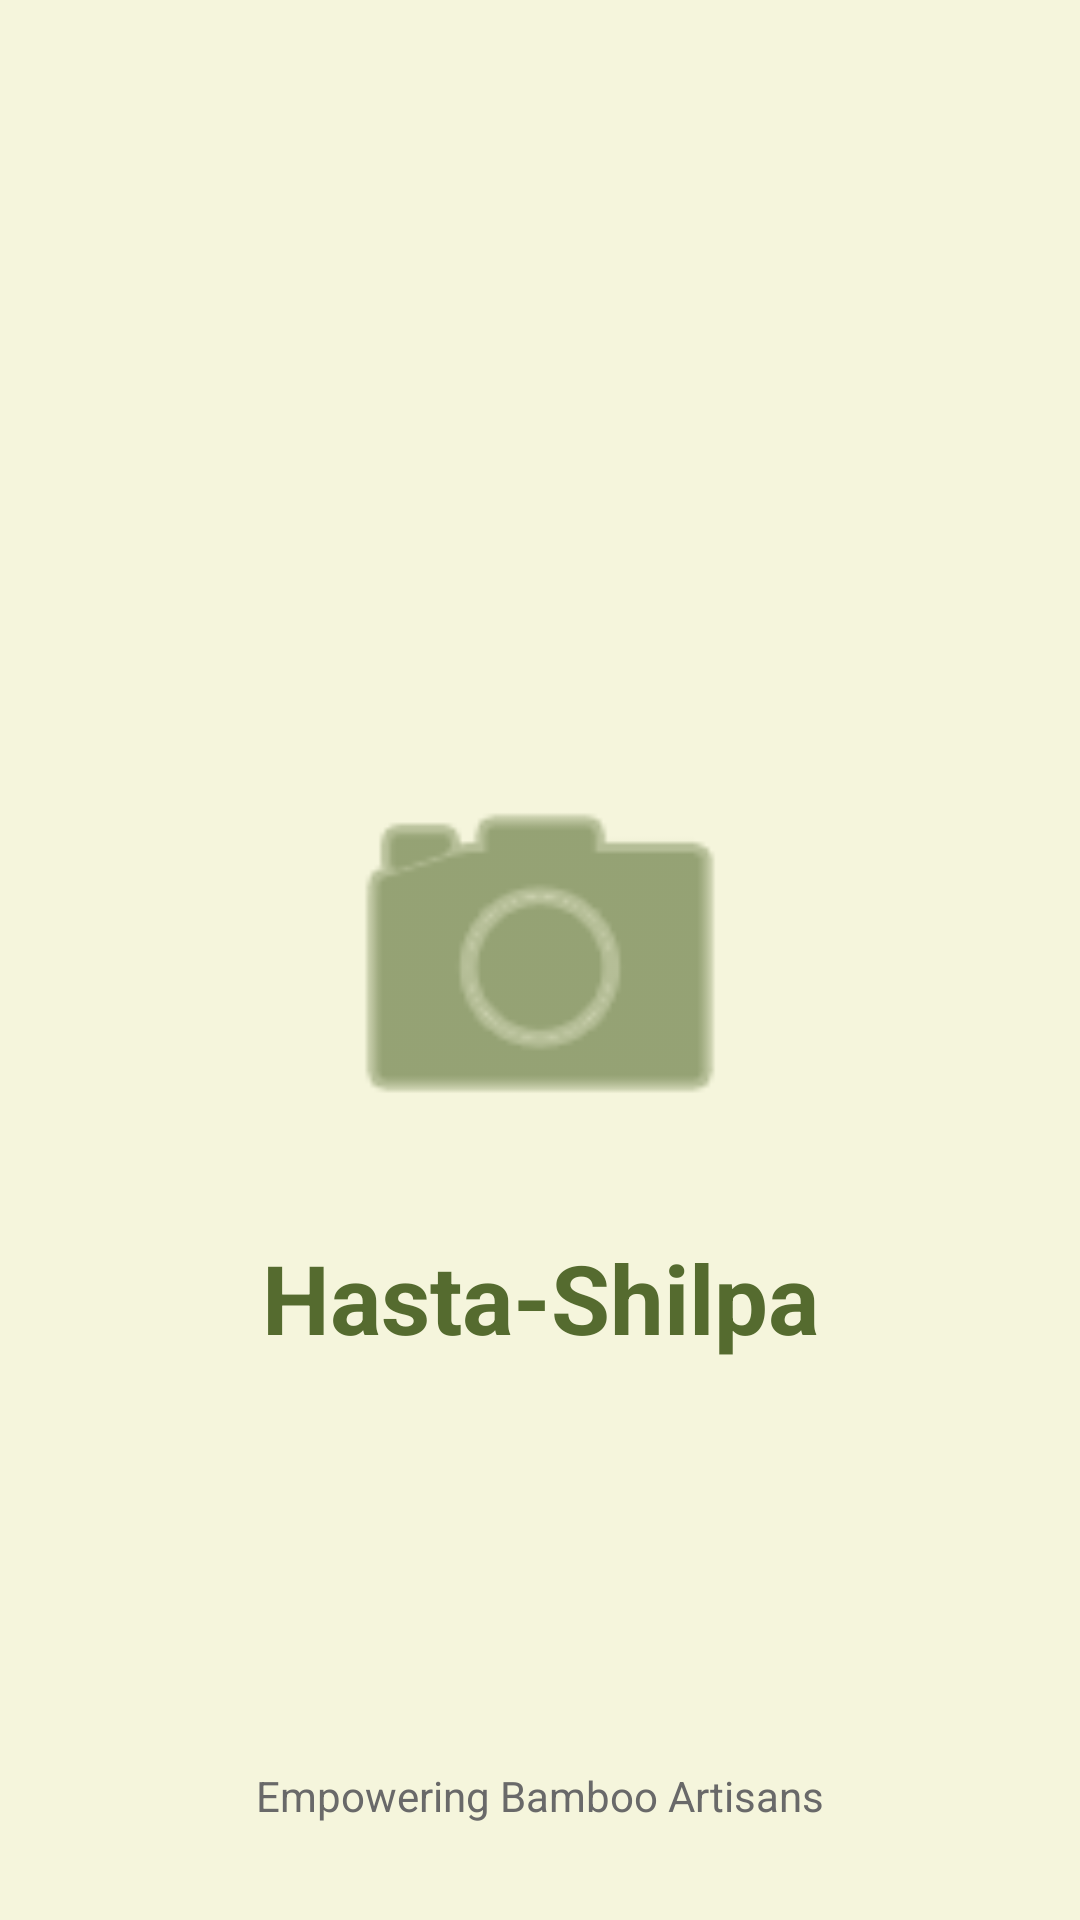

Locate icon controls on the screen. Image size 1080 × 1920, boxes as bbox=(x1, y1, x2, y2).
camera: bbox=(367, 815, 713, 1091)
